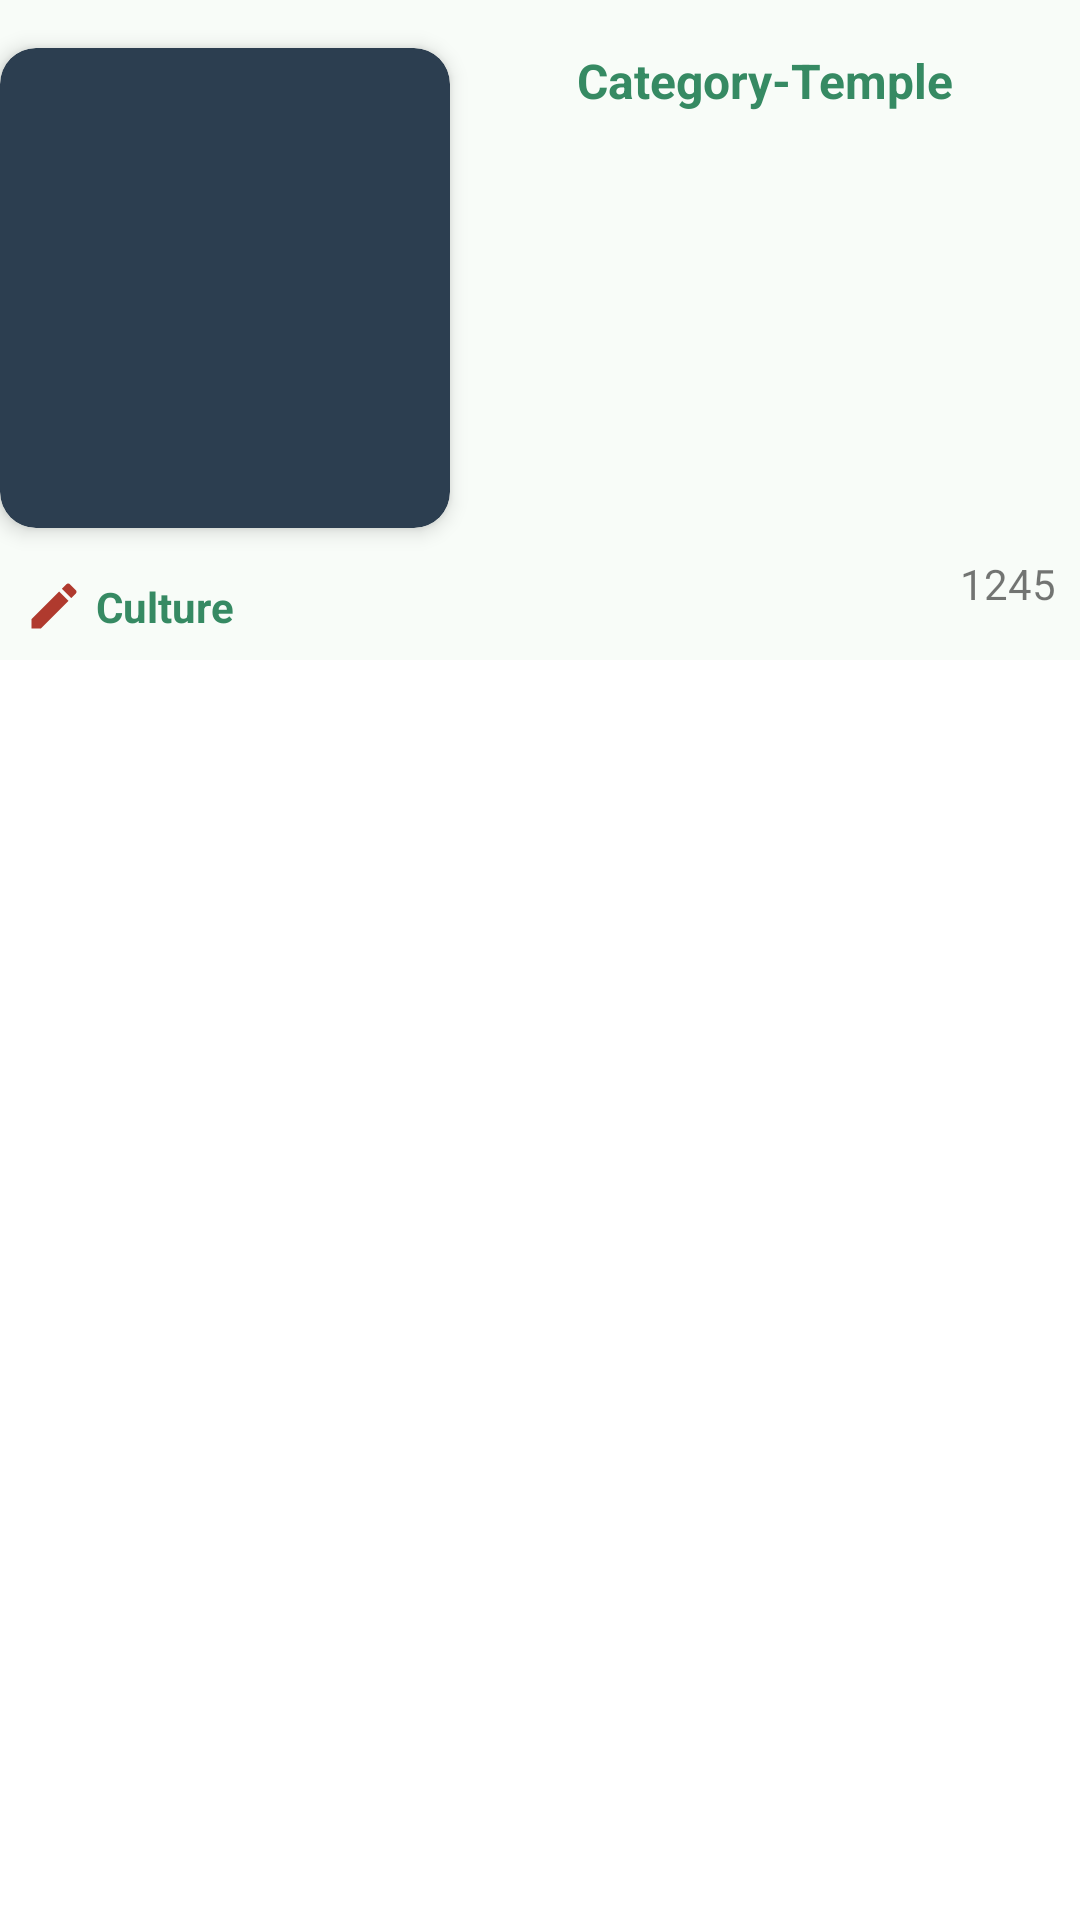

Icons on this 1080w x 1920h Android screen, each with its box as box(x1, y1, x2, y2):
create: box(31, 583, 77, 629)
